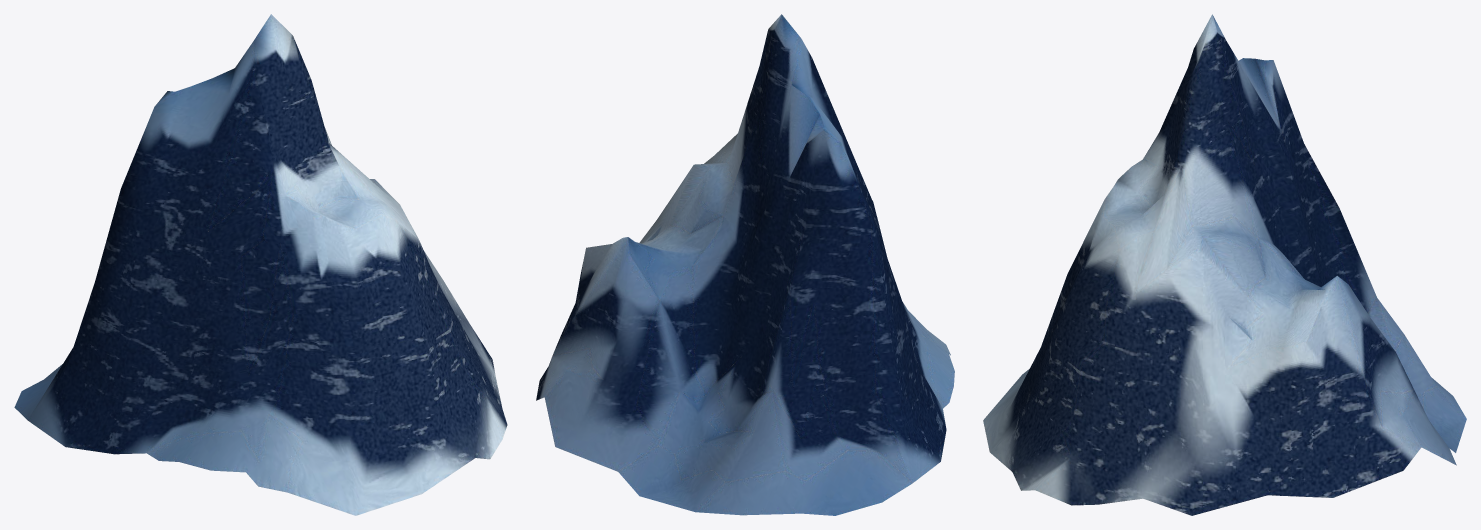
Rendered from mountainv2.gltf.
3 views of the same model, side by side, from view 1: azimuth 30°, elevation 25°; view 2: azimuth 150°, elevation 25°; view 3: azimuth 270°, elevation 25° (orthographic). The views are drawn at different scales.
Parts seen in each view (by area): view 1: Landscape; view 2: Landscape; view 3: Landscape.
Boxes of the visible parts, box(x1,y1,x2,y2) form: Landscape: box(14, 14, 507, 515); Landscape: box(536, 14, 954, 515); Landscape: box(983, 14, 1466, 515).
Size of the model in its own units: 309 by 308 by 317.
1 material, 1 textured.
